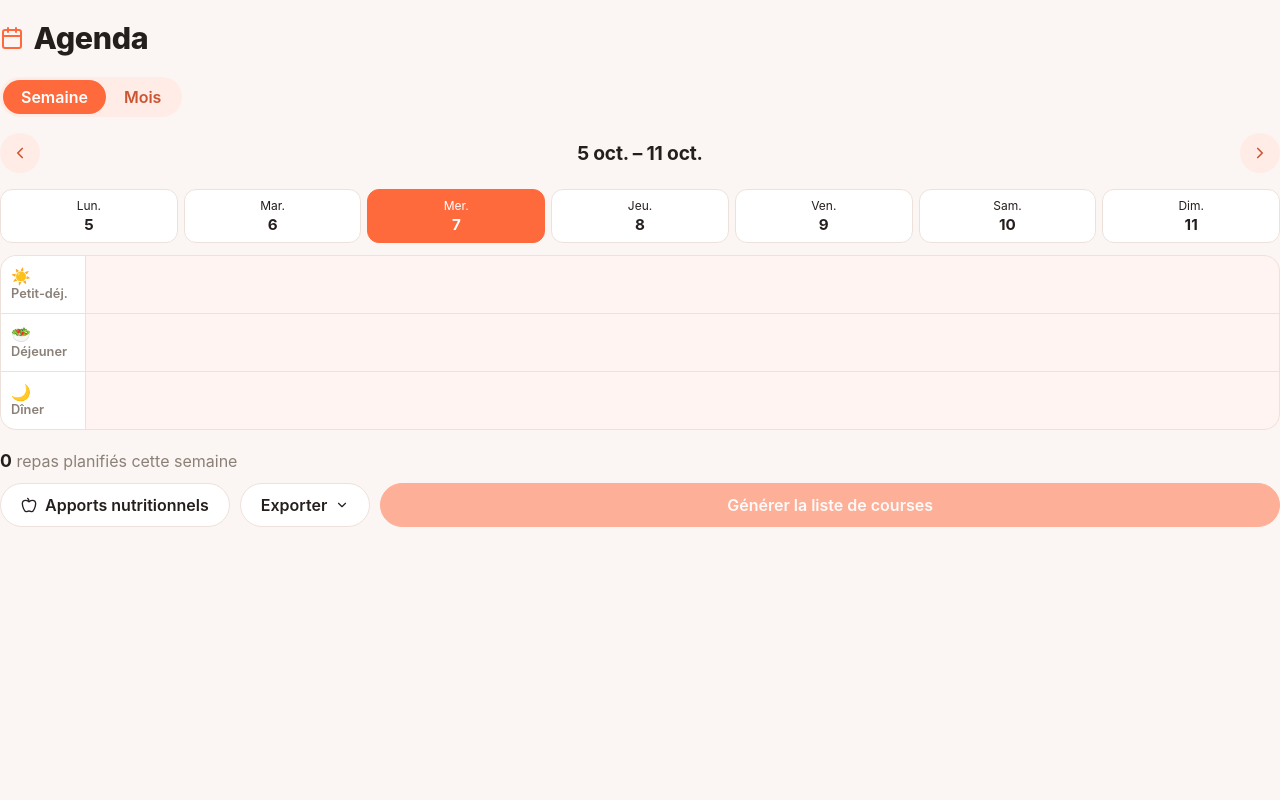
PlanningView nutrition modal › hides the deficiency banner when there are none (e.g. NUTRITION_ALERTS_ENABLED=False)
Click the button with class "nutrition-btn": (115, 505) x1=0 y1=483 x2=230 y2=527
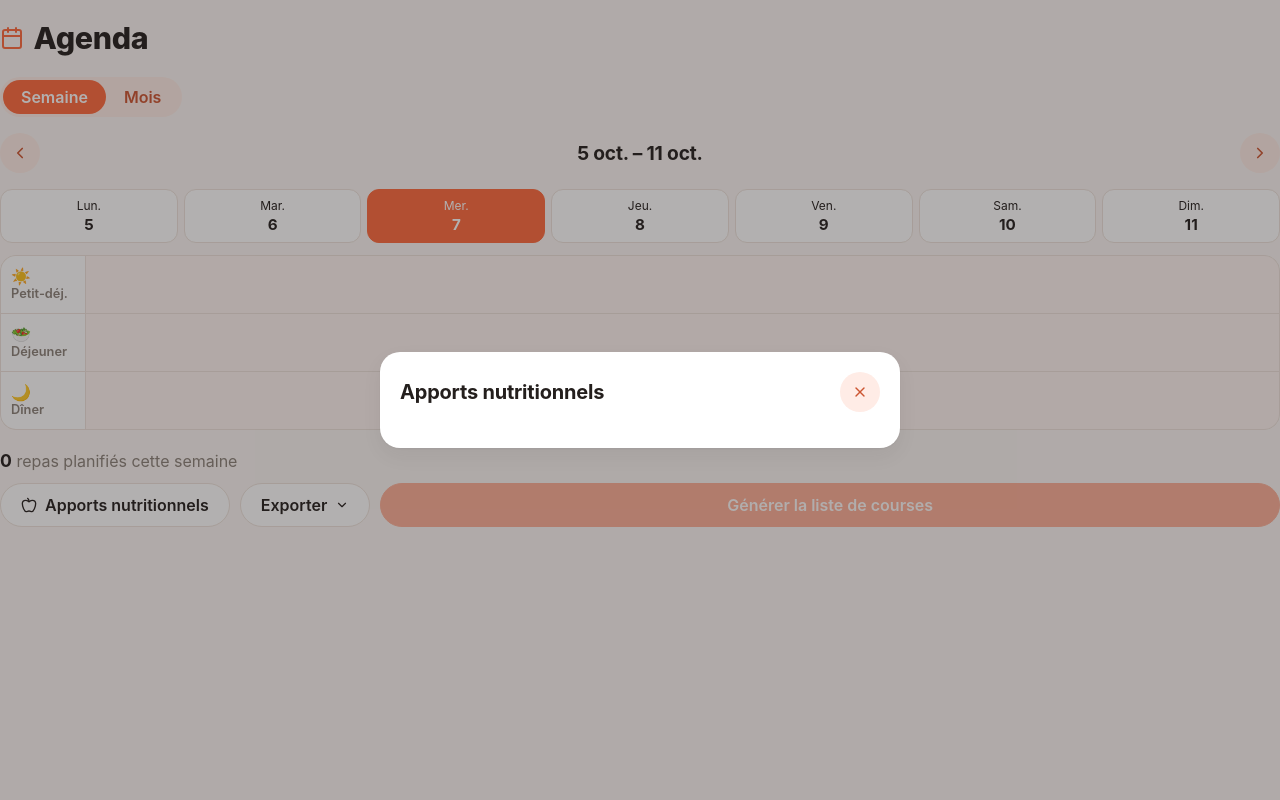
Result: the dialog is shown at x1=380 y1=352 x2=900 y2=448
